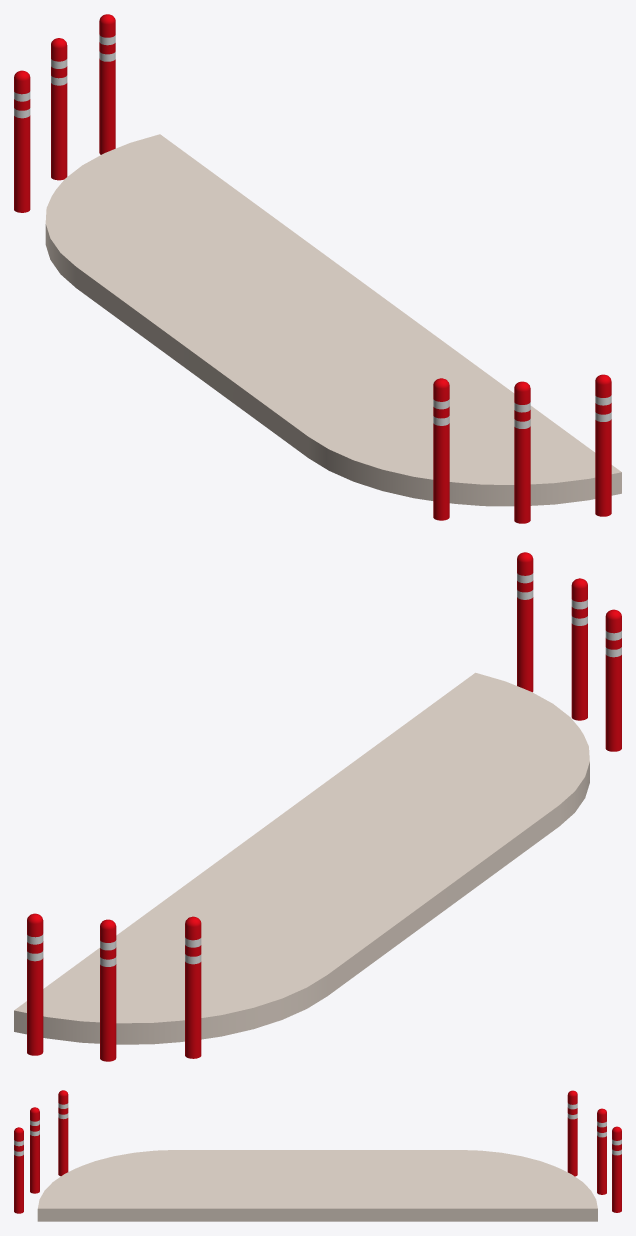
3 renders of one model, top to bottom at view 1: azimuth 30°, elevation 25°; view 2: azimuth 150°, elevation 25°; view 3: azimuth 270°, elevation 25°, orthographic. The views are drawn at different scales.
Parts seen in each view (by area): view 1: TRAFFIC_FULL.007; view 2: TRAFFIC_FULL.007; view 3: TRAFFIC_FULL.007.
Boxes of the visible parts, bbox=[...] form: TRAFFIC_FULL.007: bbox=[14, 14, 621, 523]; TRAFFIC_FULL.007: bbox=[14, 552, 621, 1061]; TRAFFIC_FULL.007: bbox=[14, 1090, 621, 1221].
Size of the model in its own units: 2.57 by 1.71 by 11.24.
